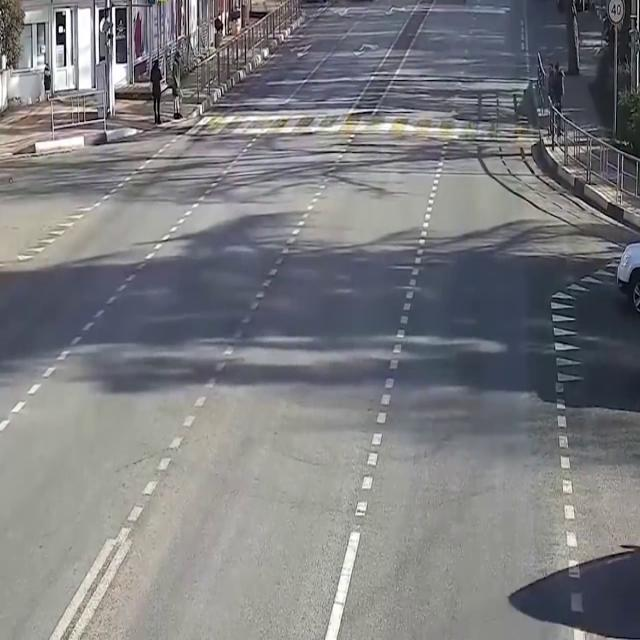noaccident: (133, 35, 591, 512)
